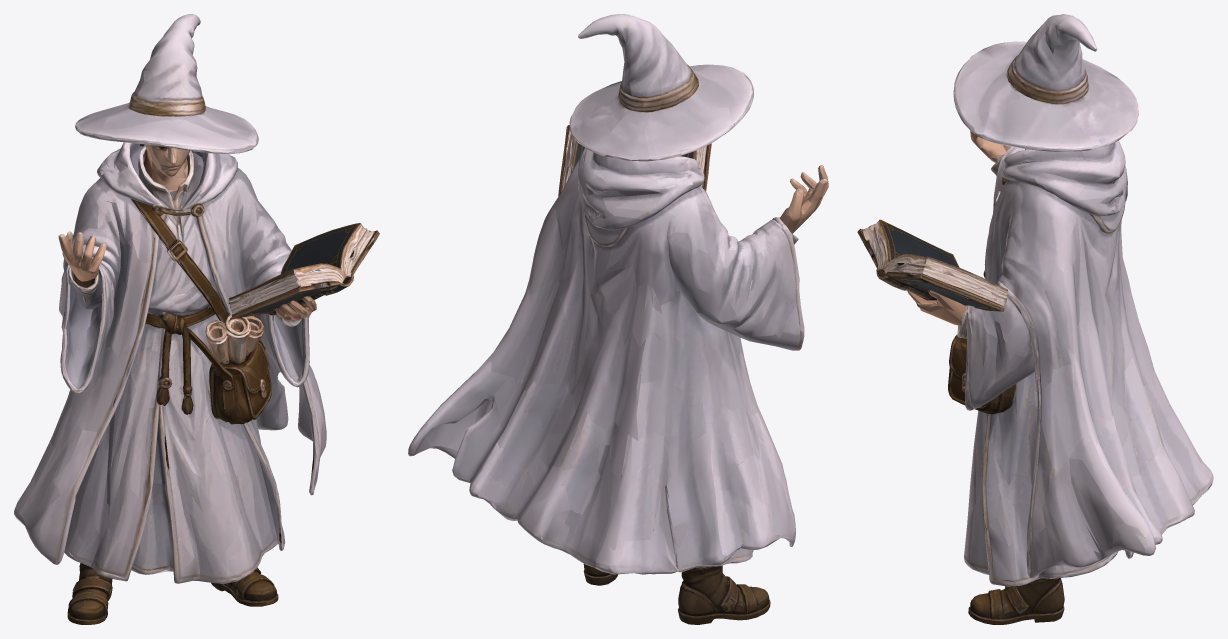
The model's file is apprentice_white.glb.
The picture shows the model from 3 angles, left to right: view 1: azimuth 30°, elevation 25°; view 2: azimuth 150°, elevation 25°; view 3: azimuth 270°, elevation 25°; orthographic projection. The views are drawn at different scales.
Size of the model in its own units: 1.16 by 1.9 by 1.05.
Materials: 1 (1 with a texture image).
